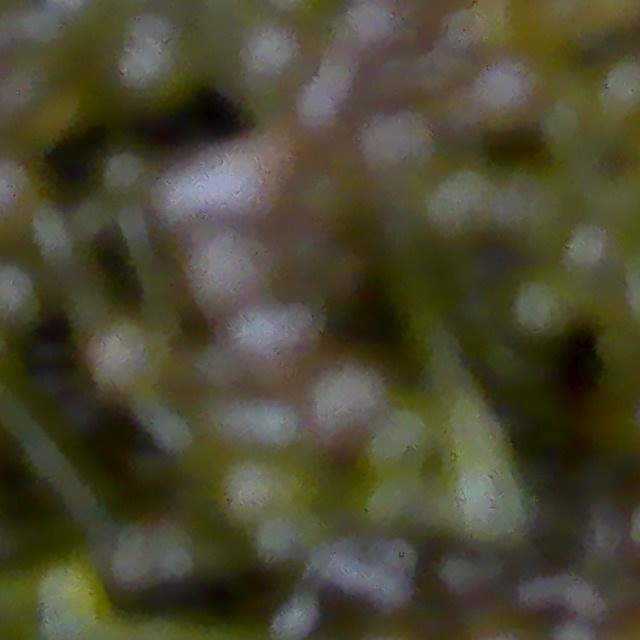SeaGrape: (227, 307, 327, 399), (306, 367, 393, 466), (349, 107, 445, 186), (187, 234, 272, 321), (464, 56, 551, 140), (129, 16, 208, 105), (89, 327, 170, 404), (507, 266, 583, 344), (347, 0, 434, 58), (296, 83, 360, 150)
